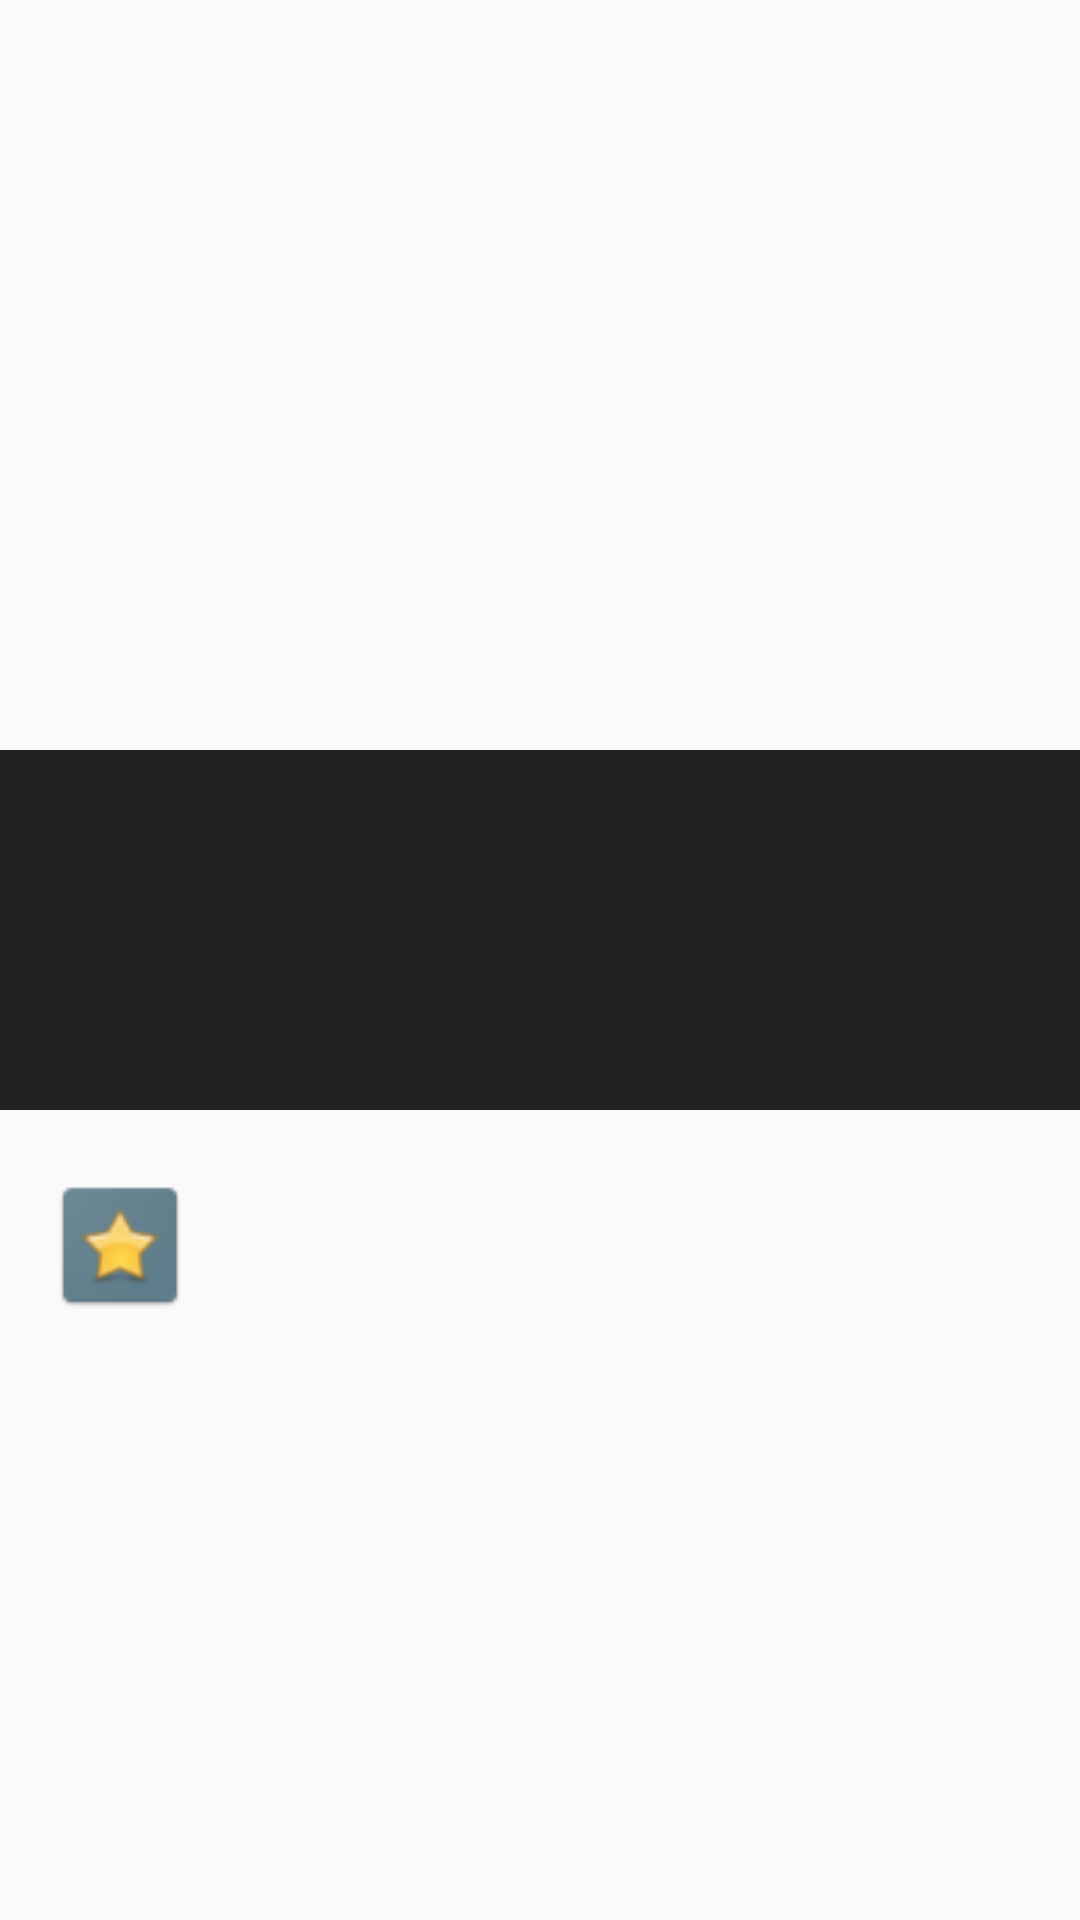

Where icons sit on this 1080*1920 app screen, as bbox=[x1, y1, x2, y2]:
rate star: bbox=[62, 1187, 178, 1305]
